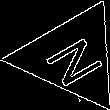N_NE: (36, 26, 107, 87)
